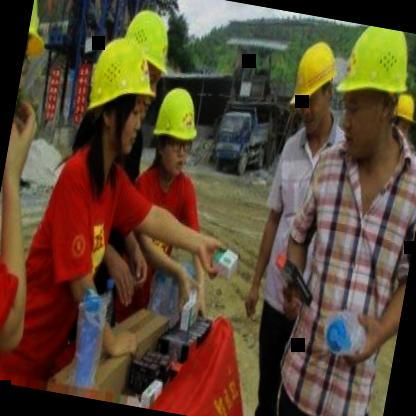helmet: (319, 22, 416, 170), (76, 23, 164, 164), (278, 31, 349, 150), (137, 78, 205, 188), (8, 0, 56, 146), (110, 4, 175, 94), (385, 87, 416, 149)
